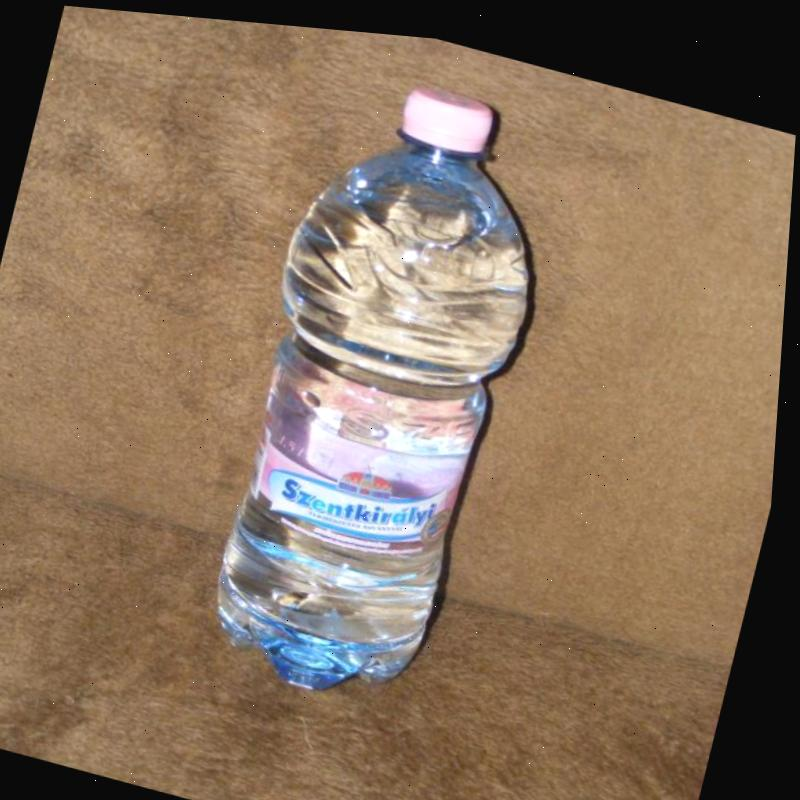botella: (193, 47, 575, 723)
